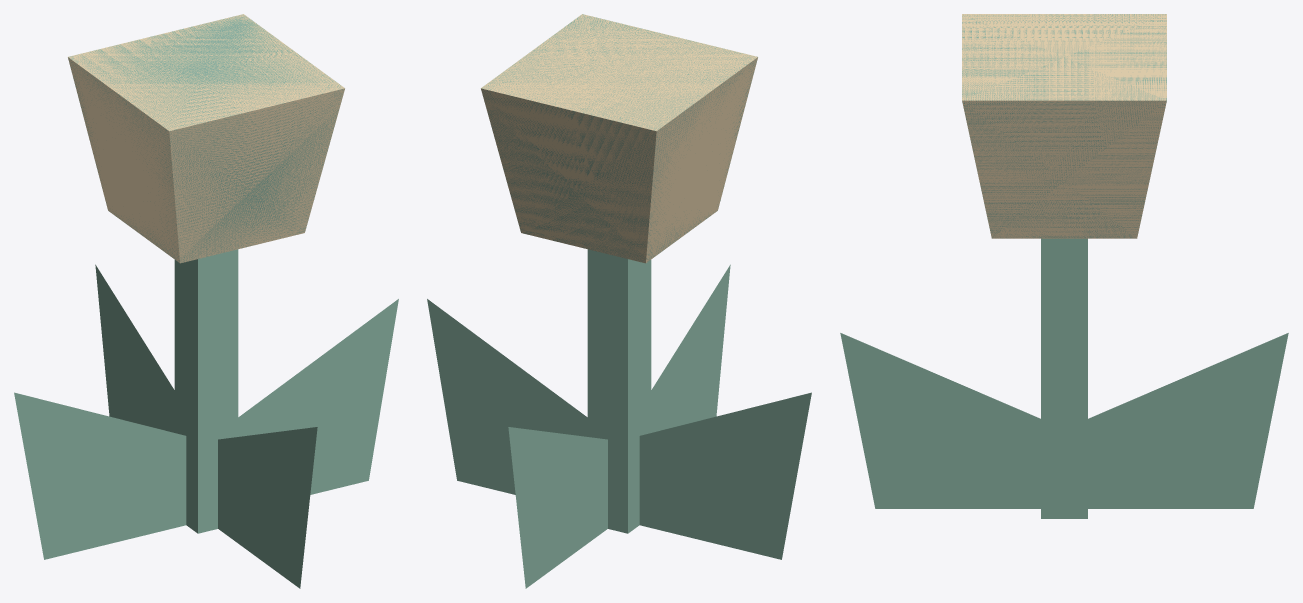
The model's file is flower_tall_yellow_01.gltf.
The picture shows the model from 3 angles, left to right: view 1: azimuth 30°, elevation 25°; view 2: azimuth 150°, elevation 25°; view 3: azimuth 270°, elevation 25°; orthographic projection.
Visible parts, largest first — view 1: Node31, Node24, Node18, Node25, Node19, Node26, Node29, Node20, Node11, Node12, Node27, Node30 (+4 smaller); view 2: Node22, Node31, Node18, Node26, Node23, Node20, Node28, Node19, Node27, Node5, Node29, Node15 (+4 smaller); view 3: Node16, Node27, Node29, Node30, Node18, Node1, Node17, Node2, Node19, Node28.
Part boxes in pixels (x1,y1,x2,y2): Node31: (14,392,186,559); Node24: (169,88,344,263); Node18: (68,14,344,130); Node25: (169,89,344,262); Node19: (69,14,342,130); Node26: (238,299,398,494); Node29: (218,427,317,588); Node20: (68,57,179,262); Node11: (198,249,238,533); Node12: (198,249,238,533); Node27: (95,265,174,432); Node30: (218,427,317,588); Node22: (481,88,656,263); Node31: (639,392,811,559); Node18: (481,14,757,131); Node26: (427,299,587,494); Node23: (481,89,656,262); Node20: (646,57,757,262); Node28: (508,427,607,587); Node19: (482,14,757,130); Node27: (508,427,607,588); Node5: (587,249,627,533); Node29: (651,264,730,432); Node15: (587,250,627,532); Node16: (962,100,1166,238); Node27: (1088,333,1288,508); Node29: (840,333,1040,508); Node30: (841,333,1040,508); Node18: (962,14,1166,100); Node1: (1041,238,1087,518); Node17: (962,100,1166,238); Node2: (1041,239,1087,518); Node19: (962,14,1166,100); Node28: (1088,334,1288,508).
Size of the model in its own units: 0.4859 by 0.54 by 0.4859.
